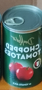tomatoes: (1, 4, 42, 88)
